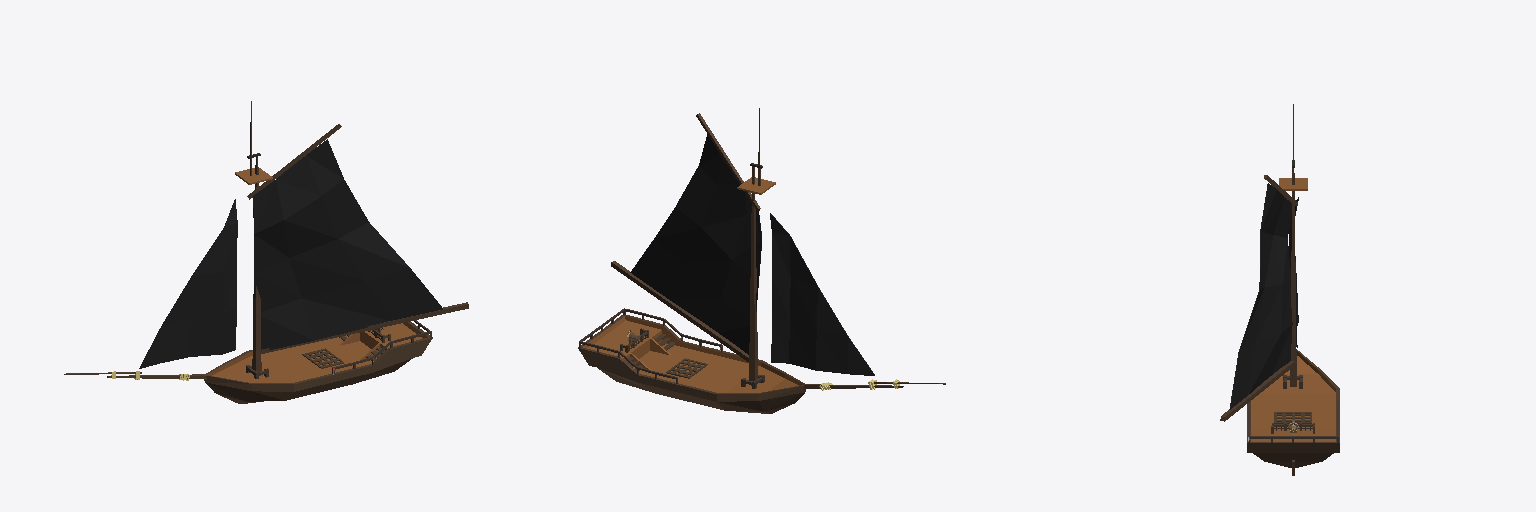
The picture shows the model from 3 angles: view 1: azimuth 30°, elevation 25°; view 2: azimuth 150°, elevation 25°; view 3: azimuth 270°, elevation 25°; orthographic projection.
Parts seen in each view (by area): view 1: Sail, Body, Mast; view 2: Sail, Body, Mast; view 3: Body, Sail, Mast.
Part boxes in pixels (left/top/right/bottom): Sail: left=139, top=139, right=442, bottom=368; Body: left=64, top=320, right=432, bottom=403; Mast: left=235, top=101, right=468, bottom=375; Sail: left=630, top=134, right=874, bottom=375; Body: left=578, top=308, right=945, bottom=413; Mast: left=611, top=108, right=775, bottom=385; Body: left=1247, top=350, right=1339, bottom=475; Sail: left=1229, top=183, right=1298, bottom=409; Mast: left=1220, top=104, right=1307, bottom=421.
Size of the model in its own units: 388 by 307 by 108.
Materials: 1 (1 with a texture image).